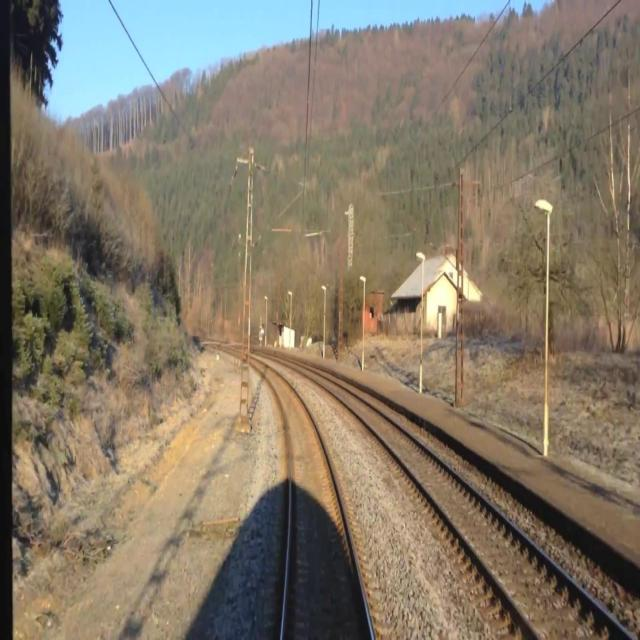rail-track: (314, 375, 628, 639), (259, 364, 370, 639)
